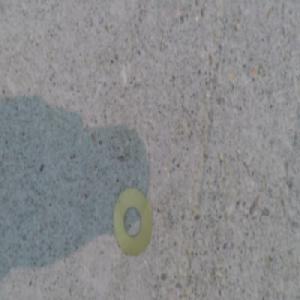Washer: (113, 186, 153, 255)
